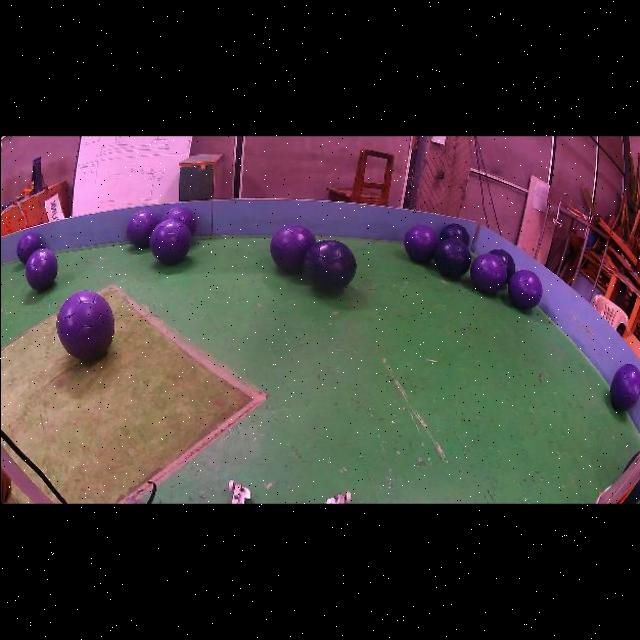B: (302, 239, 355, 291), (433, 237, 470, 277), (439, 222, 468, 245)
P: (56, 290, 113, 359), (269, 223, 315, 271), (149, 218, 190, 263), (609, 363, 640, 410), (470, 253, 506, 292), (25, 248, 57, 290), (403, 223, 439, 260), (507, 269, 541, 308), (16, 231, 39, 263)
